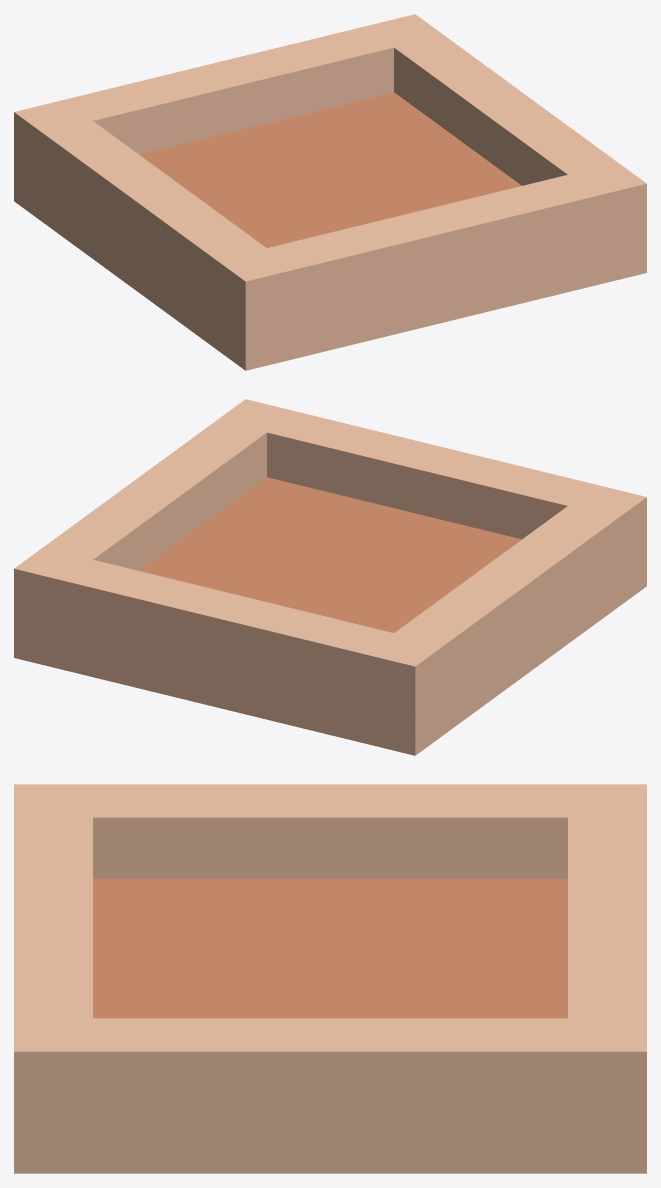
File: BuildingRoof.fbx
3 views of the same model, one above another, from view 1: azimuth 30°, elevation 25°; view 2: azimuth 150°, elevation 25°; view 3: azimuth 270°, elevation 25° (orthographic). The views are drawn at different scales.
Visible parts, largest first — view 1: BuildingRoof; view 2: BuildingRoof; view 3: BuildingRoof.
Boxes of the visible parts, bbox=[...] form: BuildingRoof: bbox=[14, 14, 646, 370]; BuildingRoof: bbox=[14, 399, 646, 755]; BuildingRoof: bbox=[14, 784, 646, 1173].
Size of the model in its own units: 300 by 63.75 by 300.
